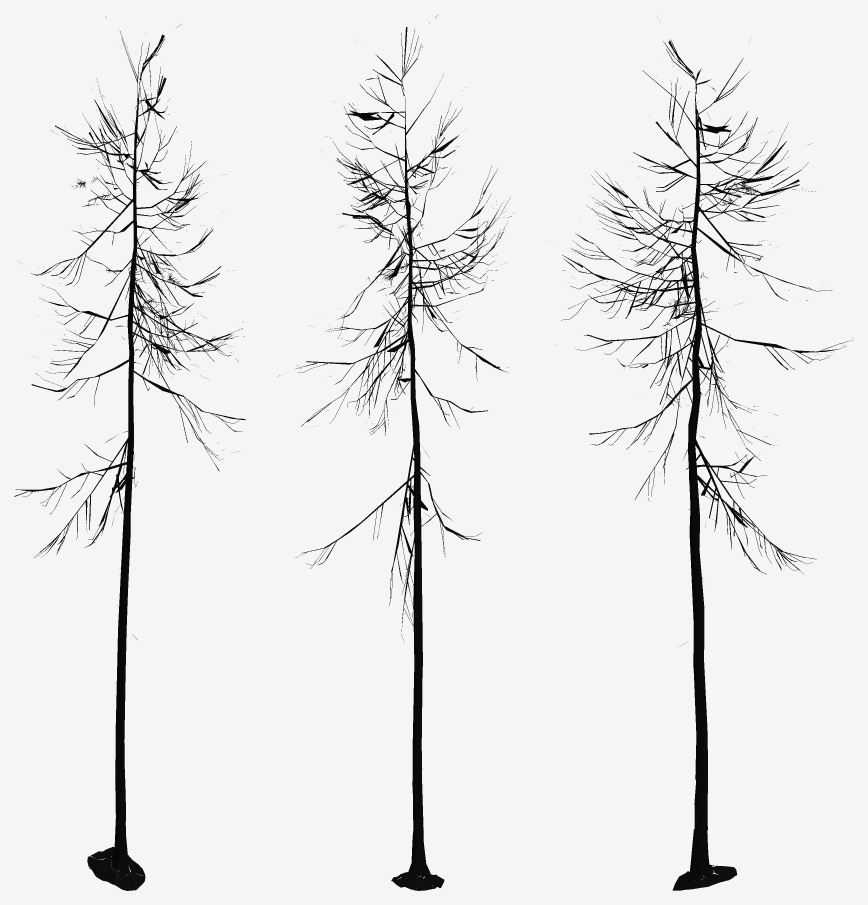
File: Fir_Young_C.glb
3 renders of one model, left to right at view 1: azimuth 30°, elevation 25°; view 2: azimuth 150°, elevation 25°; view 3: azimuth 270°, elevation 25°, orthographic. The views are drawn at different scales.
Visible parts, largest first — view 1: tree; view 2: tree; view 3: tree.
Boxes of the visible parts, left/top/right/bottom form: tree: left=14, top=17, right=245, bottom=890; tree: left=279, top=15, right=513, bottom=890; tree: left=561, top=39, right=853, bottom=890.
Size of the model in its own units: 4.51 by 17.59 by 5.63.
Materials: 1 (1 with a texture image).
